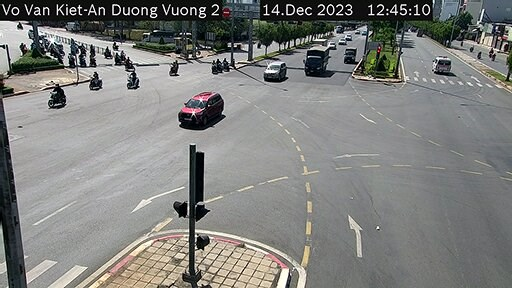car: (178, 89, 223, 127), (433, 56, 458, 79), (264, 62, 286, 87)
motorbike: (43, 83, 68, 112), (121, 72, 143, 97), (167, 56, 186, 80), (85, 71, 104, 91), (219, 57, 231, 74), (209, 58, 219, 77), (214, 55, 222, 75)
truck: (304, 47, 332, 83), (344, 44, 355, 68)
